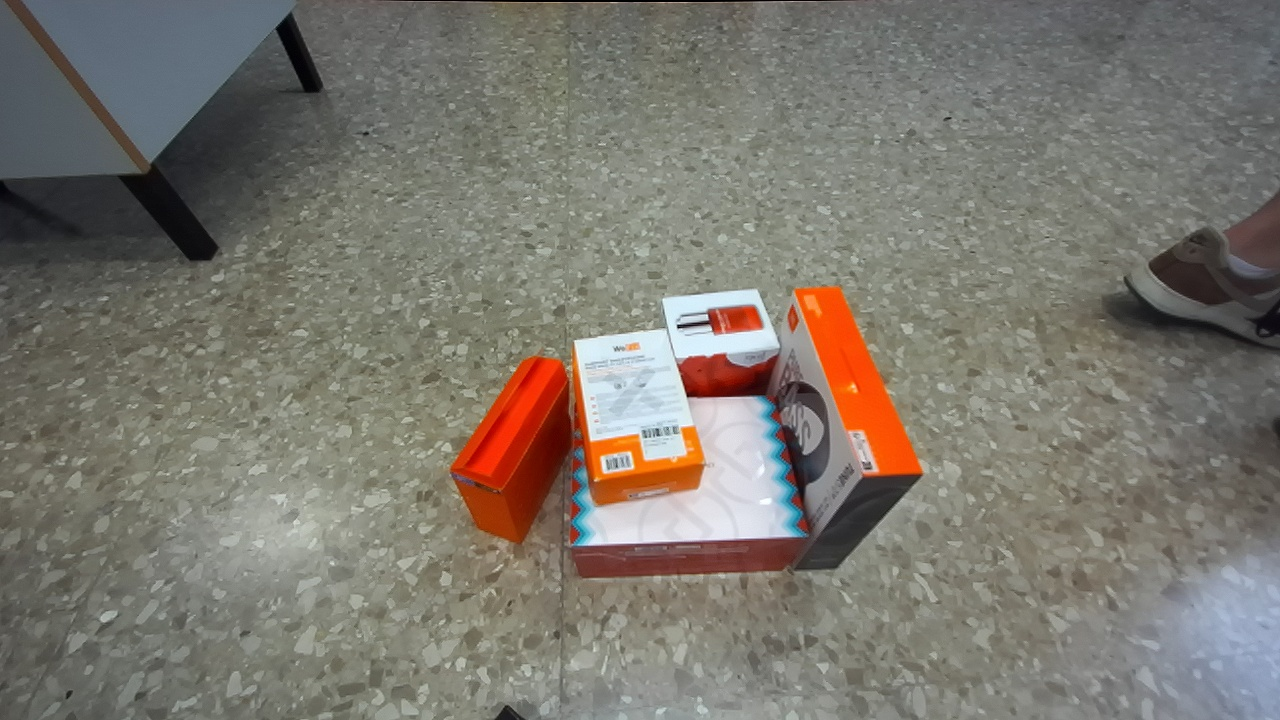caja_busbar: (570, 397, 806, 578)
caja_chasis: (767, 287, 921, 569)
caja_manguera: (451, 356, 570, 542)
caja_pcb: (573, 330, 704, 503)
caja_potencia: (663, 290, 778, 398)
